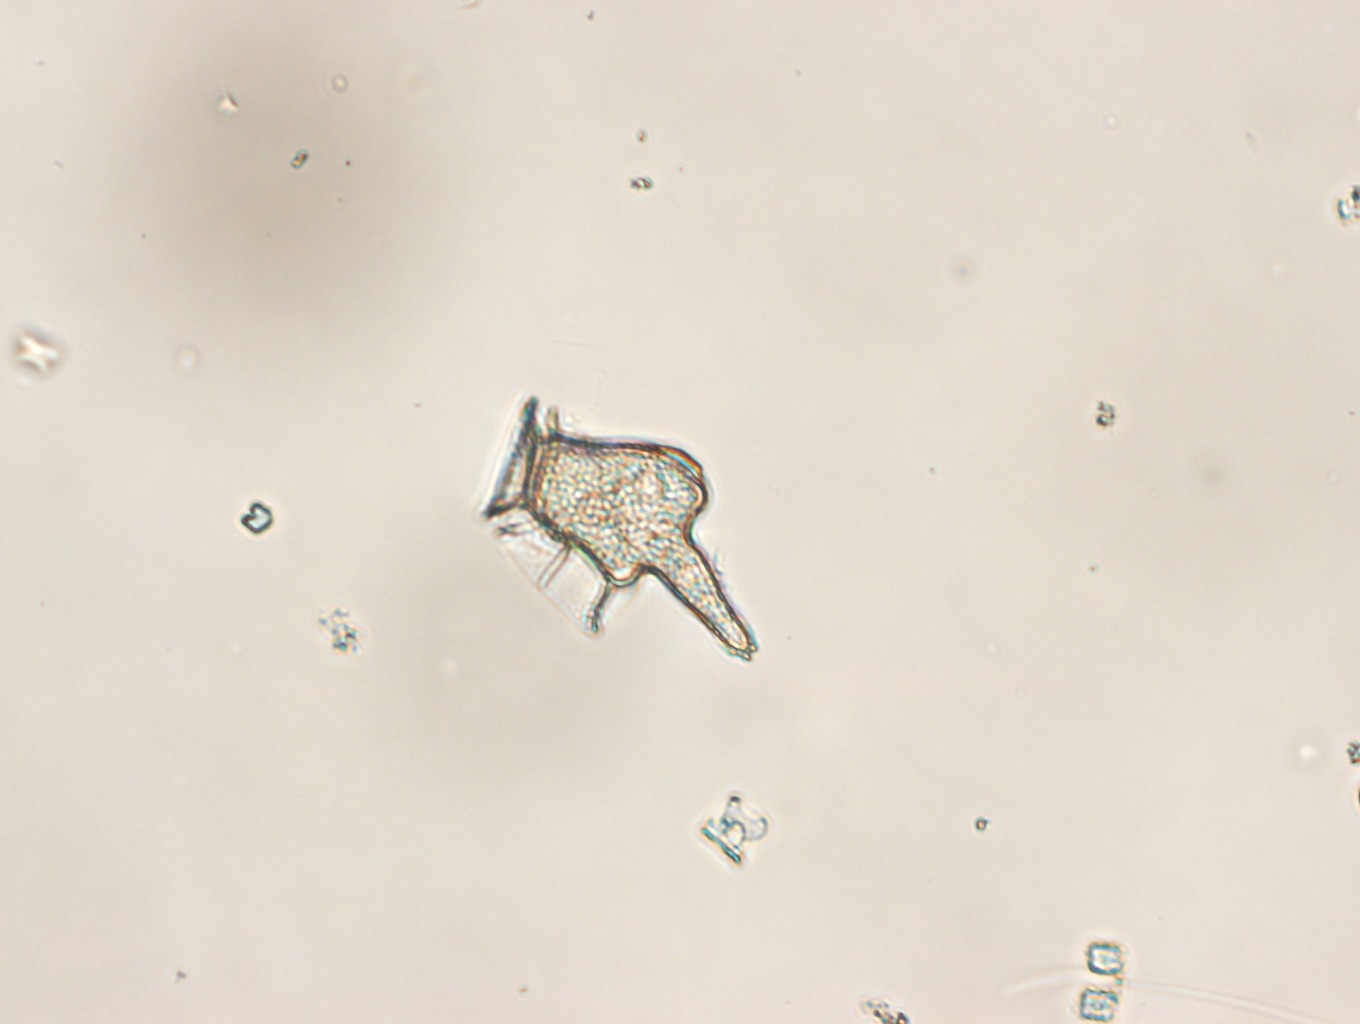dinophysis caudata: (484, 396, 751, 659)
